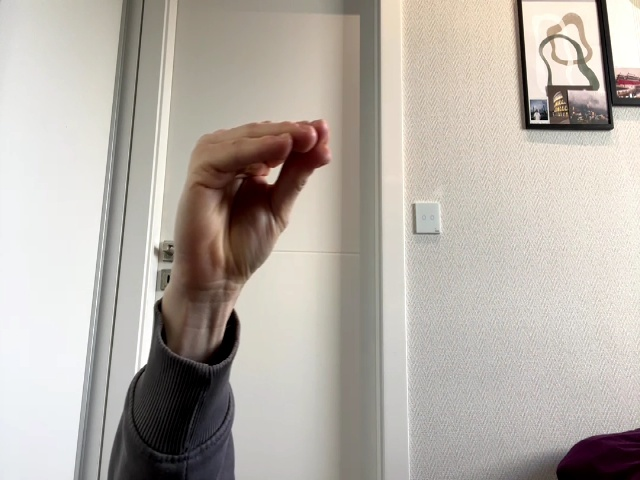E: (172, 121, 332, 276)
